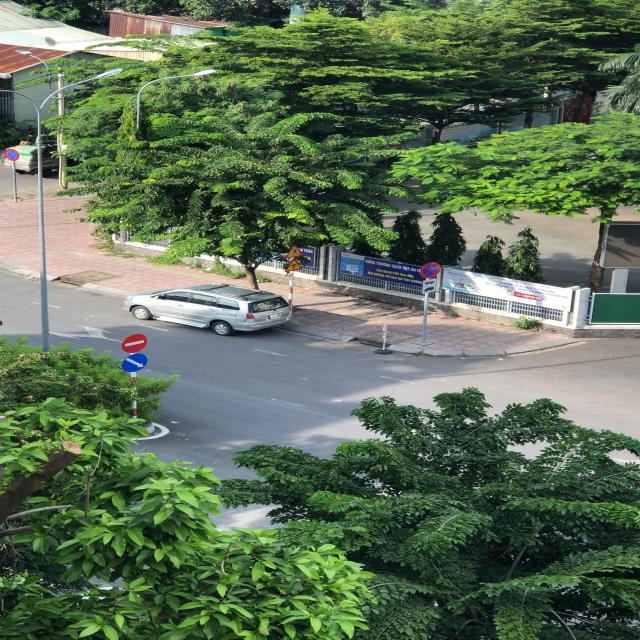Bien bao cam di nguoc chieu: (118, 332, 152, 353)
Bien bao duong giao nhau: (282, 258, 306, 272)
Bien bao duong nguoi di bo cat ngang: (284, 244, 304, 258)
Bien bao huong phai di vong chuong ngai vat: (120, 354, 149, 374)
